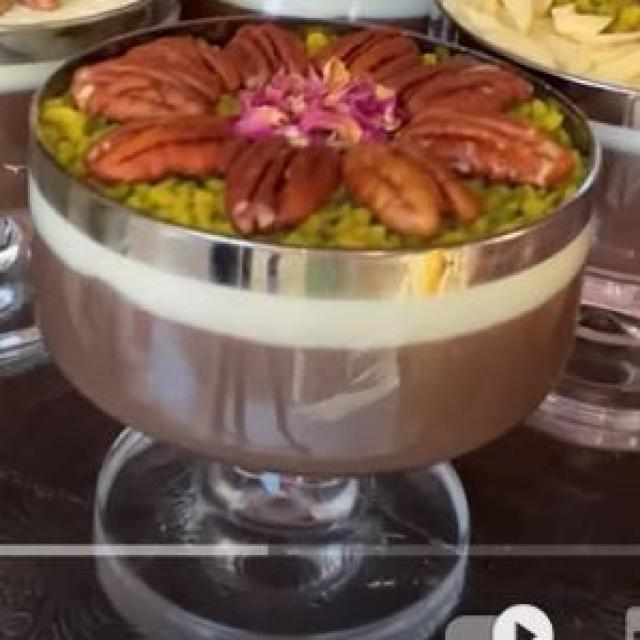asida-zkoukou: (12, 9, 618, 482)
